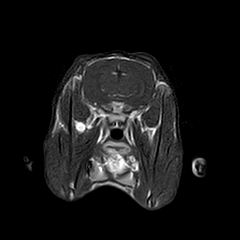Brain: (71, 26, 170, 124)
